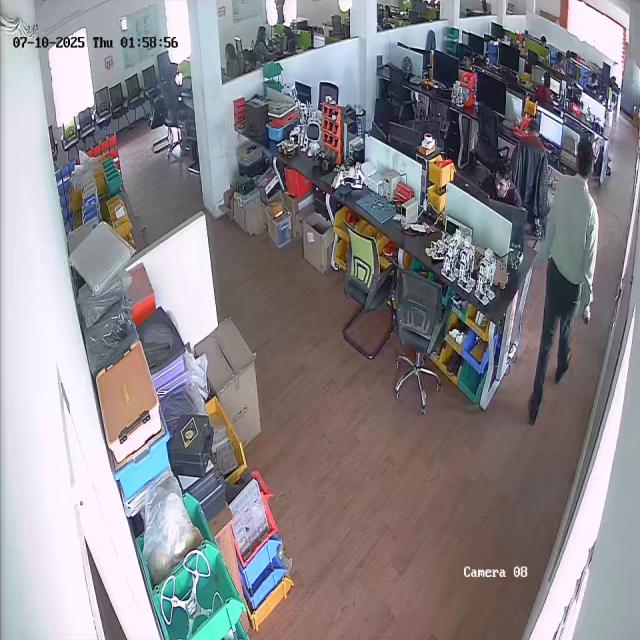person: (525, 138, 599, 426)
